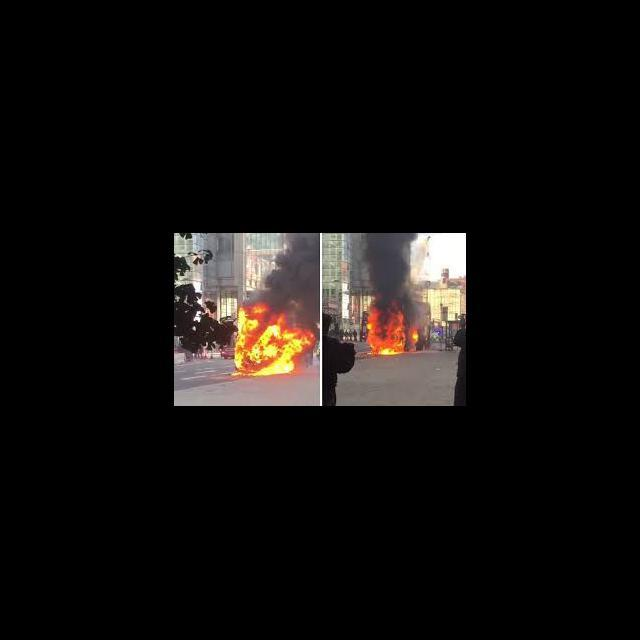Fire: (228, 303, 312, 379), (368, 307, 408, 354), (410, 332, 419, 341)
Smoke: (251, 235, 319, 298), (361, 234, 417, 304)
